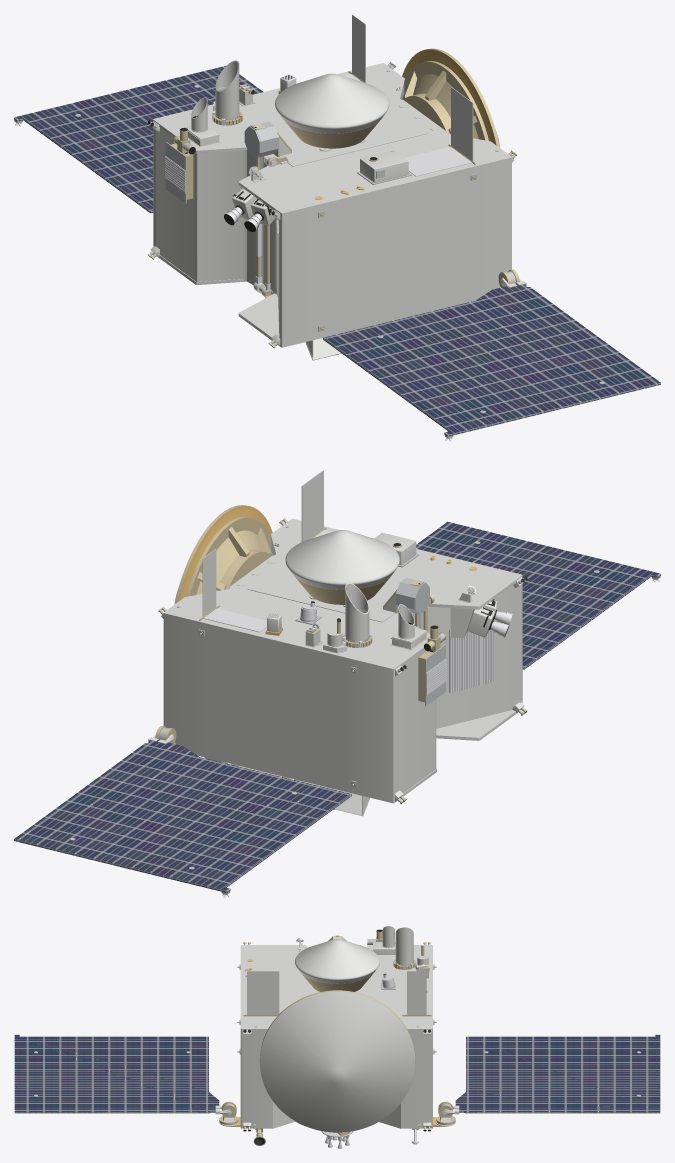
The model's file is osiris-rex.glb.
3 renders of one model, top to bottom at view 1: azimuth 30°, elevation 25°; view 2: azimuth 150°, elevation 25°; view 3: azimuth 270°, elevation 25°, orthographic. The views are drawn at different scales.
Parts seen in each view (by area): view 1: Main Layer; view 2: Main Layer; view 3: Main Layer.
Boxes of the visible parts, x1=… form: Main Layer: x1=14, y1=14, x2=660, y2=441; Main Layer: x1=14, y1=470, x2=660, y2=897; Main Layer: x1=14, y1=926, x2=660, y2=1148.
Size of the model in its own units: 2.46 by 2.15 by 6.2.
10 materials, 1 textured.
